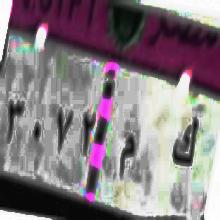0: (30, 113, 43, 152)
2: (80, 110, 96, 159)
3: (6, 92, 24, 152)
7: (54, 100, 74, 159)
kaaf: (170, 110, 198, 182)
meem: (115, 133, 137, 187)
